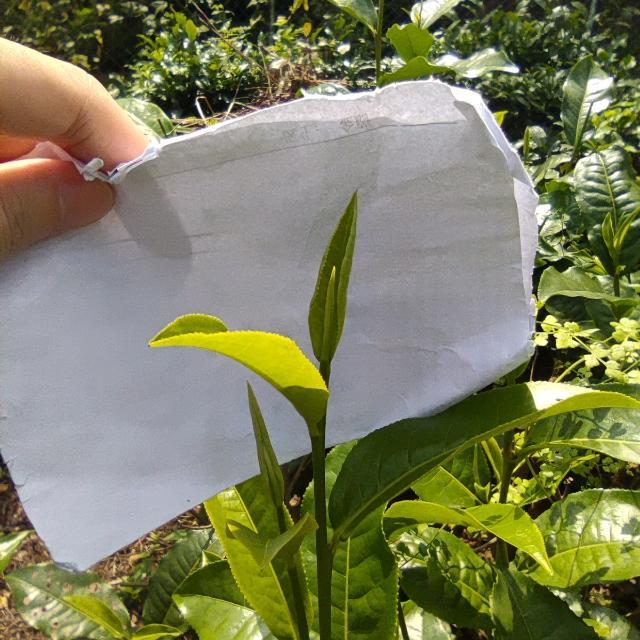Stem: (312, 436, 325, 453)
